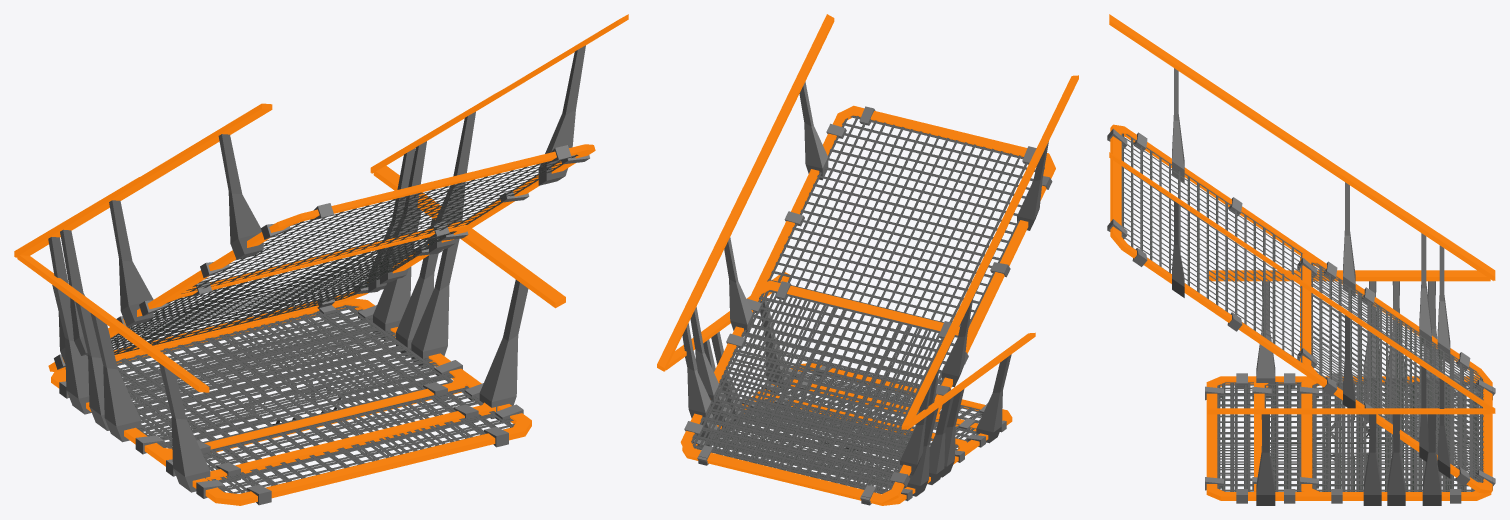
The model's file is walkways.gltf.
3 renders of one model, left to right at view 1: azimuth 30°, elevation 25°; view 2: azimuth 150°, elevation 25°; view 3: azimuth 270°, elevation 25°, orthographic. The views are drawn at different scales.
Parts seen in each view (by area): view 1: grill.ramp.5u.001, walkway.2u.001, grill.panel.2.5u.001, grill.panel.3u.damaged.001, handrail.3u.000, handrail.ramp.5u.000, grill.panel.3u.001, grill.ramp.2.5u.001, handrail.ramp.2.5u.000, handrail.2.5u.000, handrail.2u.000; view 2: grill.ramp.5u.001, grill.ramp.2.5u.001, handrail.ramp.2.5u.000, handrail.ramp.5u.000, handrail.3u.000, walkway.2u.001, grill.panel.2.5u.001, grill.panel.3u.damaged.001, handrail.2u.000, grill.panel.3u.001, handrail.2.5u.000; view 3: grill.ramp.5u.001, grill.ramp.2.5u.001, grill.panel.3u.damaged.001, walkway.2u.001, handrail.ramp.5u.000, handrail.ramp.2.5u.000, grill.panel.2.5u.001, handrail.3u.000, grill.panel.3u.001, handrail.2u.000, handrail.2.5u.000.
Part boxes in pixels (box(x1,y1,x2,y2)): grill.ramp.5u.001: box(48, 144, 595, 371); walkway.2u.001: box(51, 298, 470, 457); grill.panel.2.5u.001: box(86, 305, 495, 482); grill.panel.3u.damaged.001: box(87, 305, 531, 504); handrail.3u.000: box(17, 166, 565, 492); handrail.ramp.5u.000: box(15, 14, 628, 355); grill.panel.3u.001: box(51, 300, 531, 505); grill.ramp.2.5u.001: box(48, 221, 468, 371); handrail.ramp.2.5u.000: box(14, 90, 500, 364); handrail.2.5u.000: box(18, 166, 534, 442); handrail.2u.000: box(17, 165, 504, 430); grill.ramp.5u.001: box(684, 105, 1055, 501); grill.ramp.2.5u.001: box(680, 280, 972, 503); handrail.ramp.2.5u.000: box(657, 188, 994, 475); handrail.ramp.5u.000: box(665, 14, 1078, 428); handrail.3u.000: box(669, 272, 1035, 496); walkway.2u.001: box(682, 393, 967, 505); grill.panel.2.5u.001: box(707, 378, 985, 493); grill.panel.3u.damaged.001: box(697, 363, 1012, 490); handrail.2u.000: box(666, 311, 974, 484); grill.panel.3u.001: box(686, 363, 1012, 505); handrail.2.5u.000: box(666, 292, 1014, 477); grill.ramp.5u.001: box(1107, 124, 1494, 492); grill.ramp.2.5u.001: box(1297, 253, 1495, 493); grill.panel.3u.damaged.001: box(1205, 376, 1479, 500); walkway.2u.001: box(1300, 373, 1492, 503); handrail.ramp.5u.000: box(1109, 14, 1493, 461); handrail.ramp.2.5u.000: box(1300, 141, 1495, 478); grill.panel.2.5u.001: box(1252, 373, 1479, 503); handrail.3u.000: box(1207, 270, 1488, 505); grill.panel.3u.001: box(1205, 373, 1492, 503); handrail.2u.000: box(1302, 270, 1490, 505); handrail.2.5u.000: box(1255, 270, 1490, 505).
Size of what is drawn, in the model's own units: 3.48 by 4.28 by 4.09.
3 materials, 1 textured.
